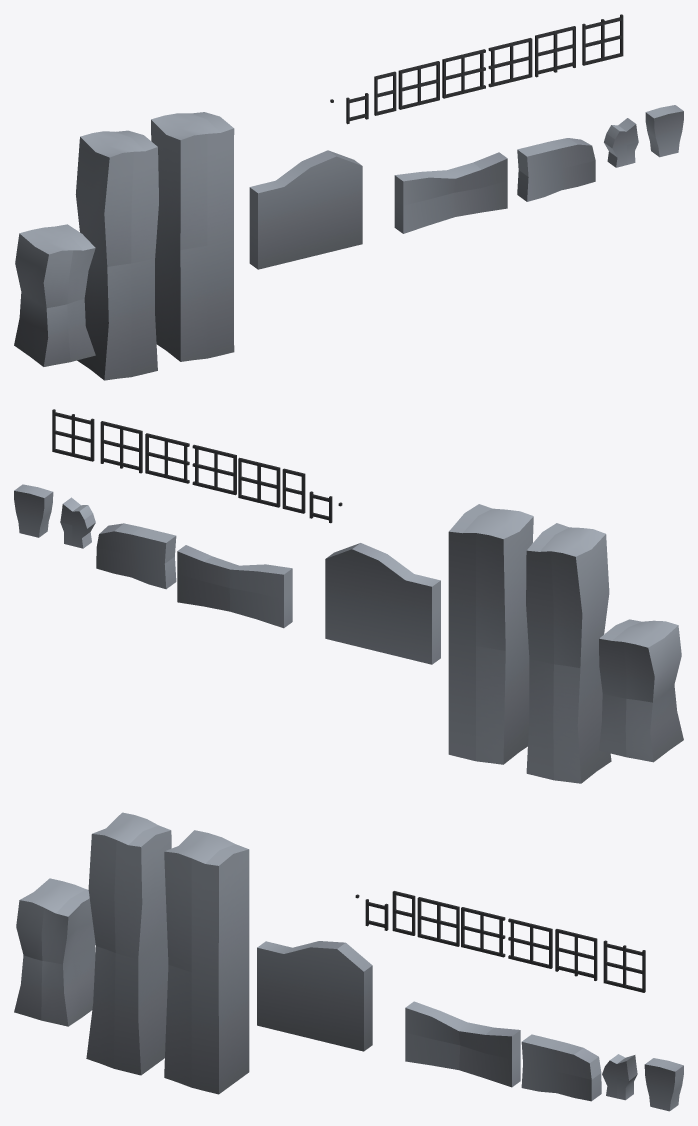
File: DestroyedWallCollection.fbx
3 renders of one model, top to bottom at view 1: azimuth 30°, elevation 25°; view 2: azimuth 150°, elevation 25°; view 3: azimuth 330°, elevation 25°, orthographic. The views are drawn at different scales.
Visible parts, largest first — view 1: Wall_Segement2, Wall_Segement3, Wall_Segement1, Wall_Segement4, Wall_Segement5, Wall_Segement6, Wall_Segement8, Wall_Segement7, Wall_SteelColumn29, Wall_SteelColumn27, Wall_SteelColumn3, Wall_SteelColumn26 (+1 smaller); view 2: Wall_Segement2, Wall_Segement3, Wall_Segement1, Wall_Segement4, Wall_Segement5, Wall_Segement6, Wall_Segement8, Wall_Segement7, Wall_SteelColumn26, Wall_SteelColumn3, Wall_SteelColumn27, Wall_SteelColumn29 (+2 smaller); view 3: Wall_Segement2, Wall_Segement3, Wall_Segement1, Wall_Segement4, Wall_Segement5, Wall_Segement6, Wall_Segement8, Wall_Segement7, Wall_SteelColumn26, Wall_SteelColumn3, Wall_SteelColumn27, Wall_SteelColumn29 (+2 smaller).
Part boxes in pixels (box(x1,y1,x2,y2)): Wall_Segement2: box(151, 112, 234, 361); Wall_Segement3: box(75, 130, 158, 380); Wall_Segement1: box(249, 150, 362, 269); Wall_Segement4: box(14, 224, 95, 366); Wall_Segement5: box(394, 152, 507, 233); Wall_Segement6: box(517, 138, 595, 201); Wall_Segement8: box(645, 105, 683, 157); Wall_Segement7: box(604, 118, 638, 167); Wall_SteelColumn29: box(488, 38, 532, 87); Wall_SteelColumn27: box(535, 26, 575, 77); Wall_SteelColumn3: box(398, 61, 439, 109); Wall_SteelColumn26: box(582, 14, 623, 65); Wall_Segement2: box(448, 504, 533, 764); Wall_Segement3: box(526, 523, 611, 783); Wall_Segement1: box(325, 543, 440, 664); Wall_Segement4: box(599, 619, 683, 762); Wall_Segement5: box(177, 545, 292, 628); Wall_Segement6: box(96, 523, 176, 589); Wall_Segement8: box(14, 484, 53, 537); Wall_Segement7: box(60, 497, 95, 548); Wall_SteelColumn26: box(52, 409, 94, 461); Wall_SteelColumn3: box(238, 457, 280, 507); Wall_SteelColumn27: box(100, 421, 142, 473); Wall_SteelColumn29: box(145, 433, 189, 483); Wall_Segement2: box(164, 830, 249, 1094); Wall_Segement3: box(86, 812, 171, 1075); Wall_Segement1: box(257, 941, 372, 1051); Wall_Segement4: box(14, 878, 95, 1026); Wall_Segement5: box(405, 1001, 520, 1087); Wall_Segement6: box(521, 1034, 601, 1101); Wall_Segement8: box(644, 1058, 683, 1111); Wall_Segement7: box(602, 1054, 637, 1100); Wall_SteelColumn26: box(603, 940, 645, 992); Wall_SteelColumn3: box(417, 897, 459, 946); Wall_SteelColumn27: box(555, 929, 597, 980); Wall_SteelColumn29: box(508, 918, 552, 968).
Size of the model in its own units: 11.02 by 3.74 by 1.03.
Materials: 2 (2 with a texture image).
